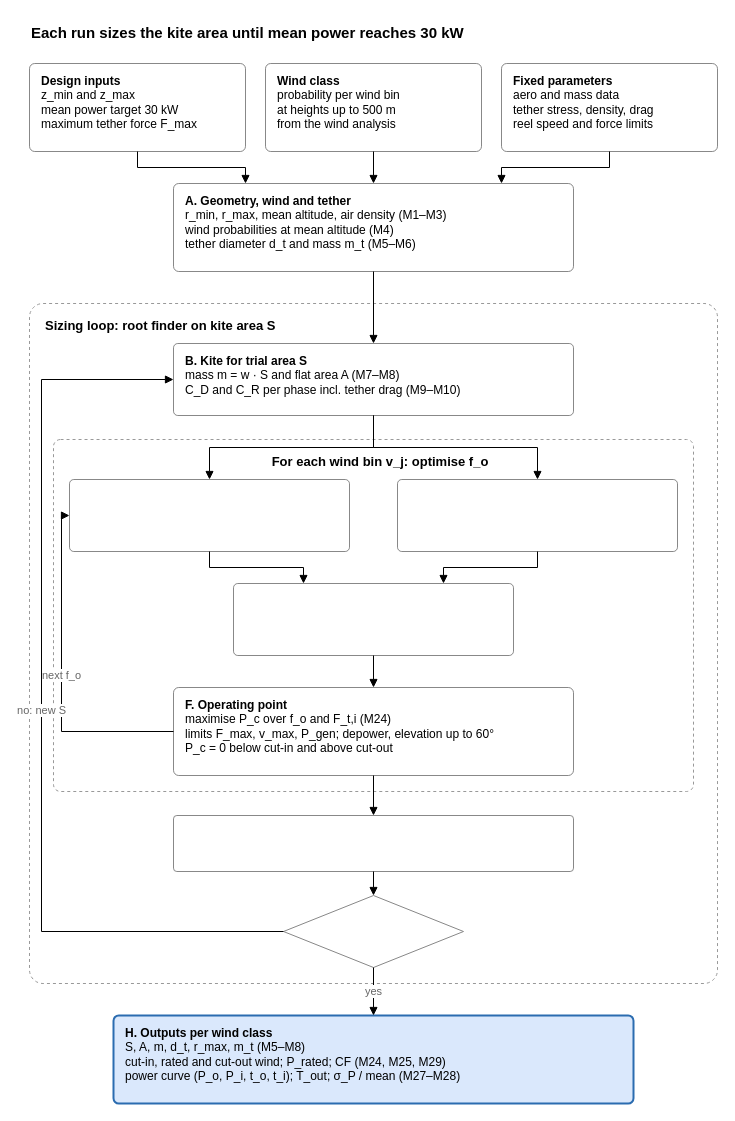
The diagram is 735 pixels wide and 1121 high, and some of its shapes have lost their labels. Here are the shapes that lost their labels. From the top down, the box of each, then its label:
(68, 478, 350, 552): C. Reel-out state gravity iteration (M11–M19) reel-out power P_o (M20)
(396, 478, 678, 552): D. Reel-in state time-stepped, optimised force (M21) reel-in power P_i (M20)
(232, 582, 514, 656): E. Cycle t_o, t_i, transition t_x and its energy E_x (M22) cycle power P_c (M23)
(172, 814, 574, 872): G. Mean power sum of p_j · P_c over the wind bins (M26)
(282, 894, 464, 968): mean = 30 kW?
